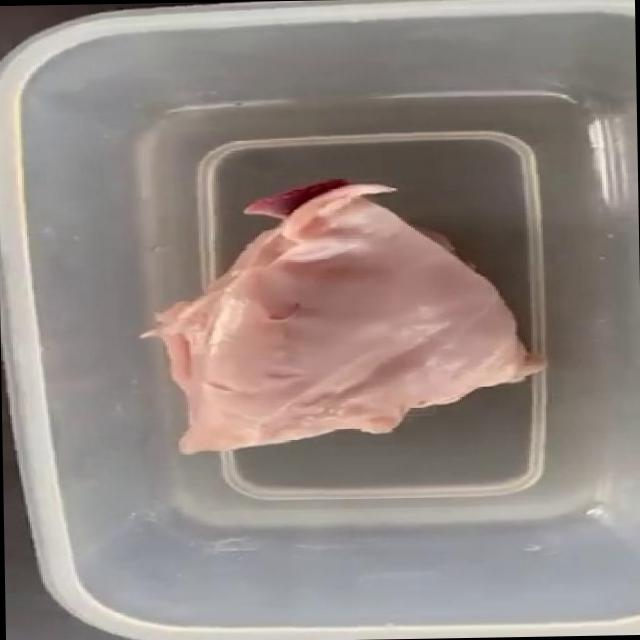chicken: (155, 171, 560, 456)
